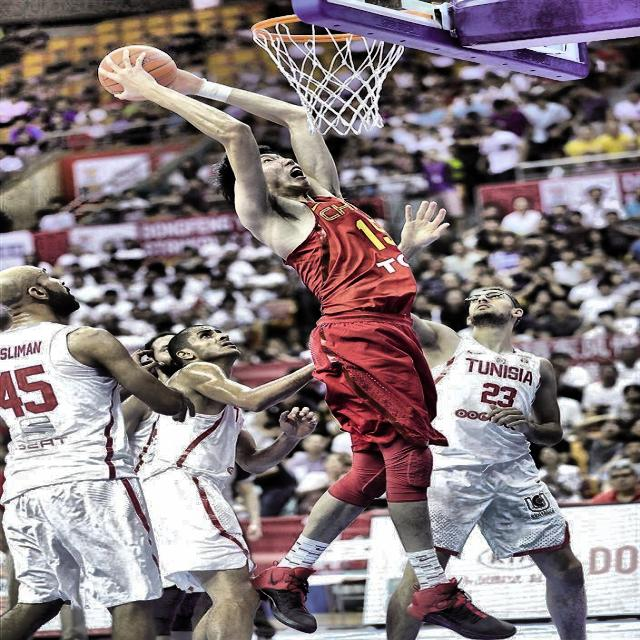rim: (251, 16, 404, 134)
